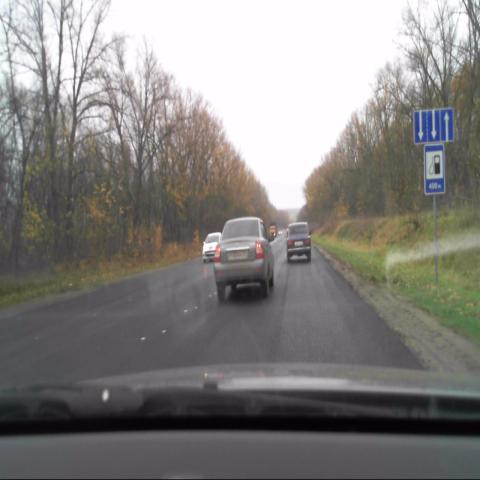5_15_7: (413, 107, 454, 144)
